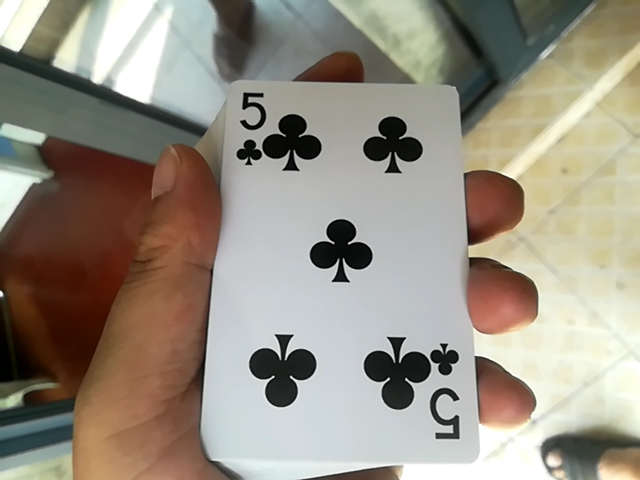mh 5: (190, 68, 470, 467)
